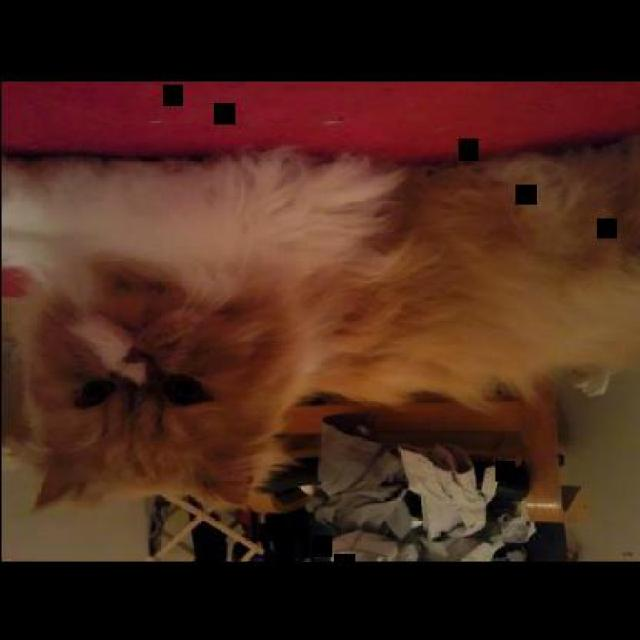unauthorized: (0, 127, 638, 512)
